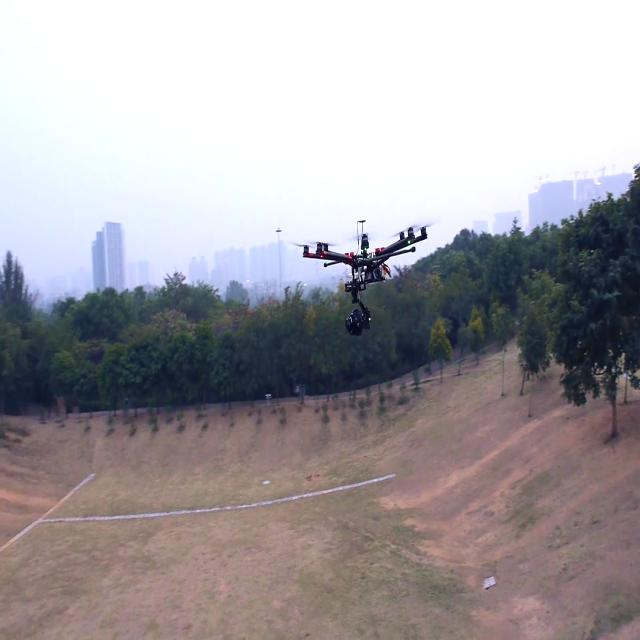drone: (281, 186, 458, 334)
